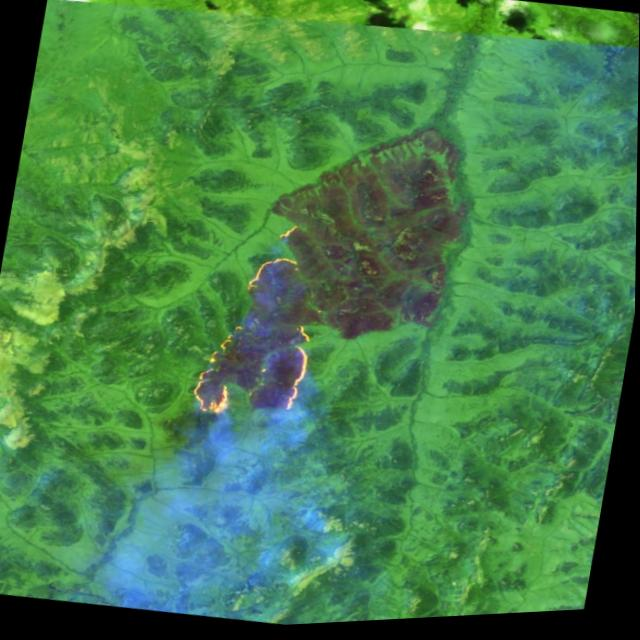fire: (182, 247, 338, 435)
